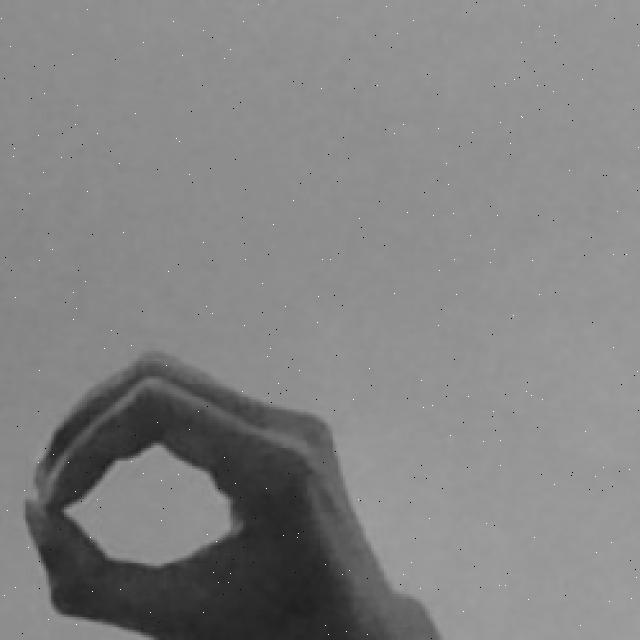O: (21, 347, 433, 640)
